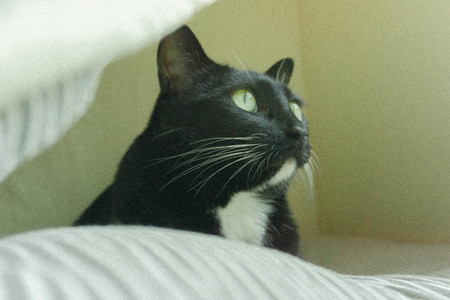cat: (60, 19, 320, 265)
cat-face: (149, 15, 314, 212)
